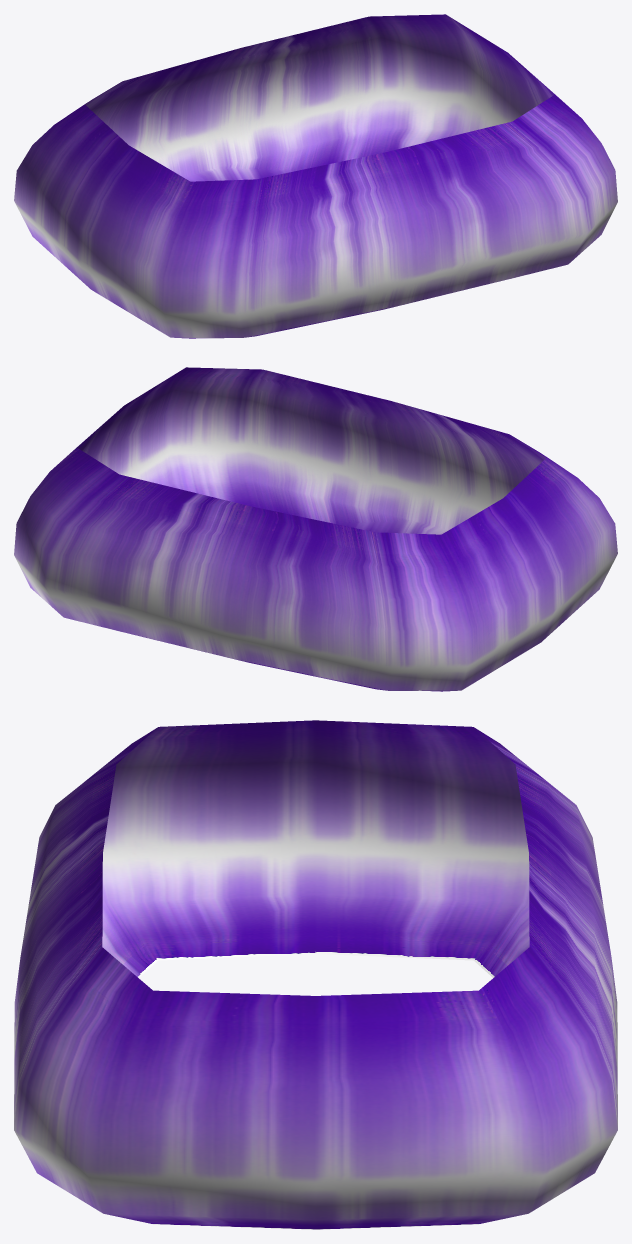
The model's file is heavy_unit_plasma.obj.
3 views of the same model, one above another, from view 1: azimuth 30°, elevation 25°; view 2: azimuth 150°, elevation 25°; view 3: azimuth 270°, elevation 25° (orthographic). The views are drawn at different scales.
Visible parts, largest first — view 1: pSphere7; view 2: pSphere7; view 3: pSphere7.
Boxes of the visible parts, x1,y1,x2,y2 form: pSphere7: (14, 14, 617, 338); pSphere7: (14, 367, 617, 691); pSphere7: (14, 720, 617, 1229).
Bounding box in the file's own units: 53.59 × 17.02 × 39.88.
1 material, 1 textured.
